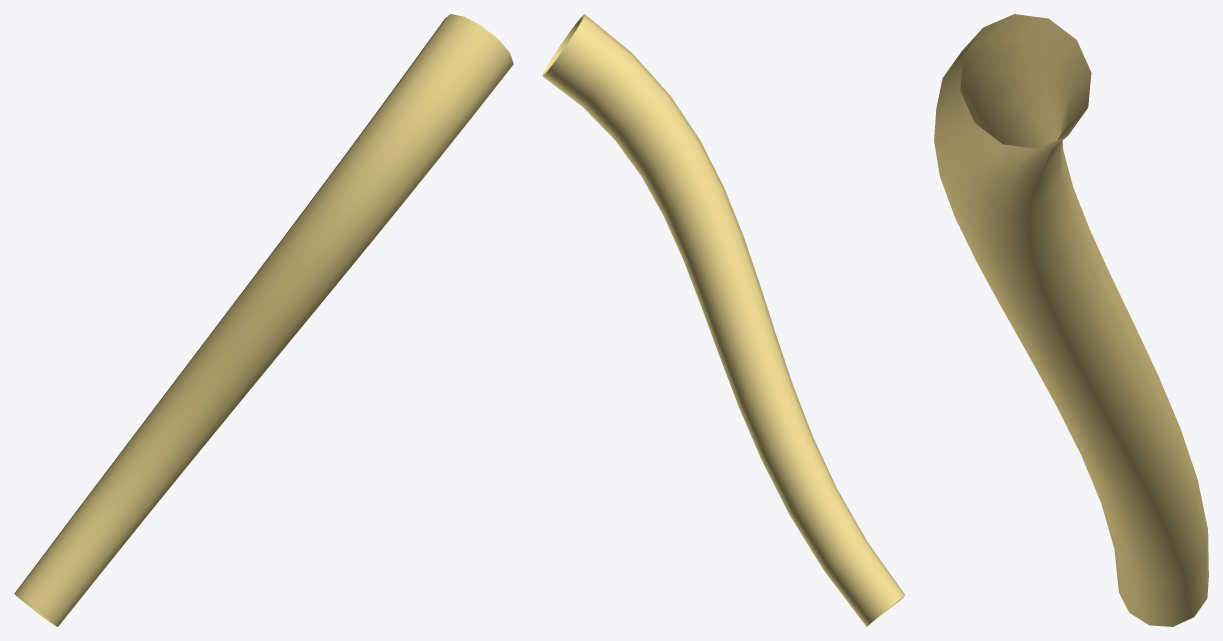
3 views of the same model, side by side, from view 1: azimuth 30°, elevation 25°; view 2: azimuth 150°, elevation 25°; view 3: azimuth 270°, elevation 25° (orthographic). The views are drawn at different scales.
Parts seen in each view (by area): view 1: ZA_58054ba03cddbd7f; view 2: ZA_58054ba03cddbd7f; view 3: ZA_58054ba03cddbd7f.
Boxes of the visible parts, x1=… form: ZA_58054ba03cddbd7f: x1=14, y1=14, x2=513, y2=626; ZA_58054ba03cddbd7f: x1=542, y1=14, x2=905, y2=626; ZA_58054ba03cddbd7f: x1=934, y1=14, x2=1208, y2=626.
Size of the model in its own units: 0.0182 by 0.0218 by 0.00599.
